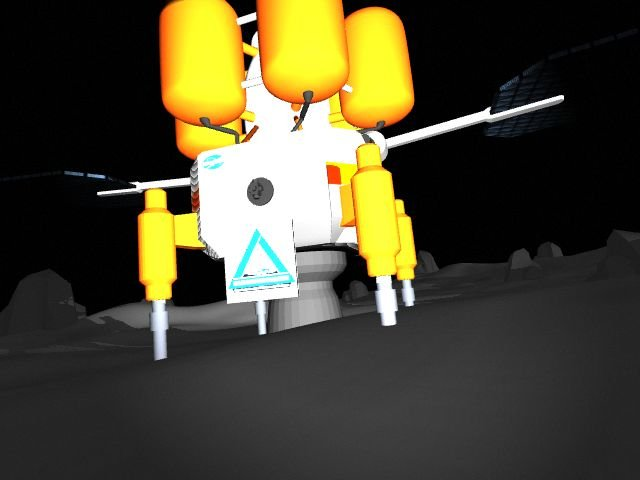basemarker: (227, 226, 296, 293)
